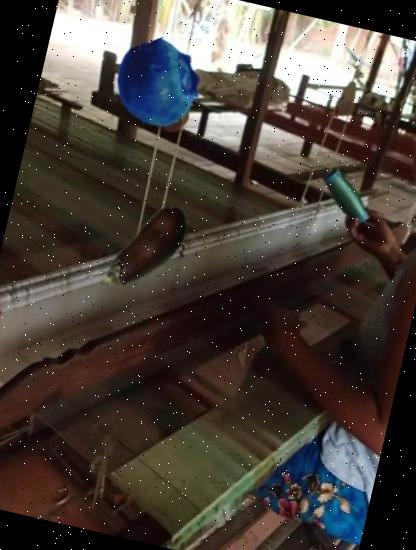Eggplant: (81, 184, 214, 318)
Huckleberry: (106, 32, 209, 136)
